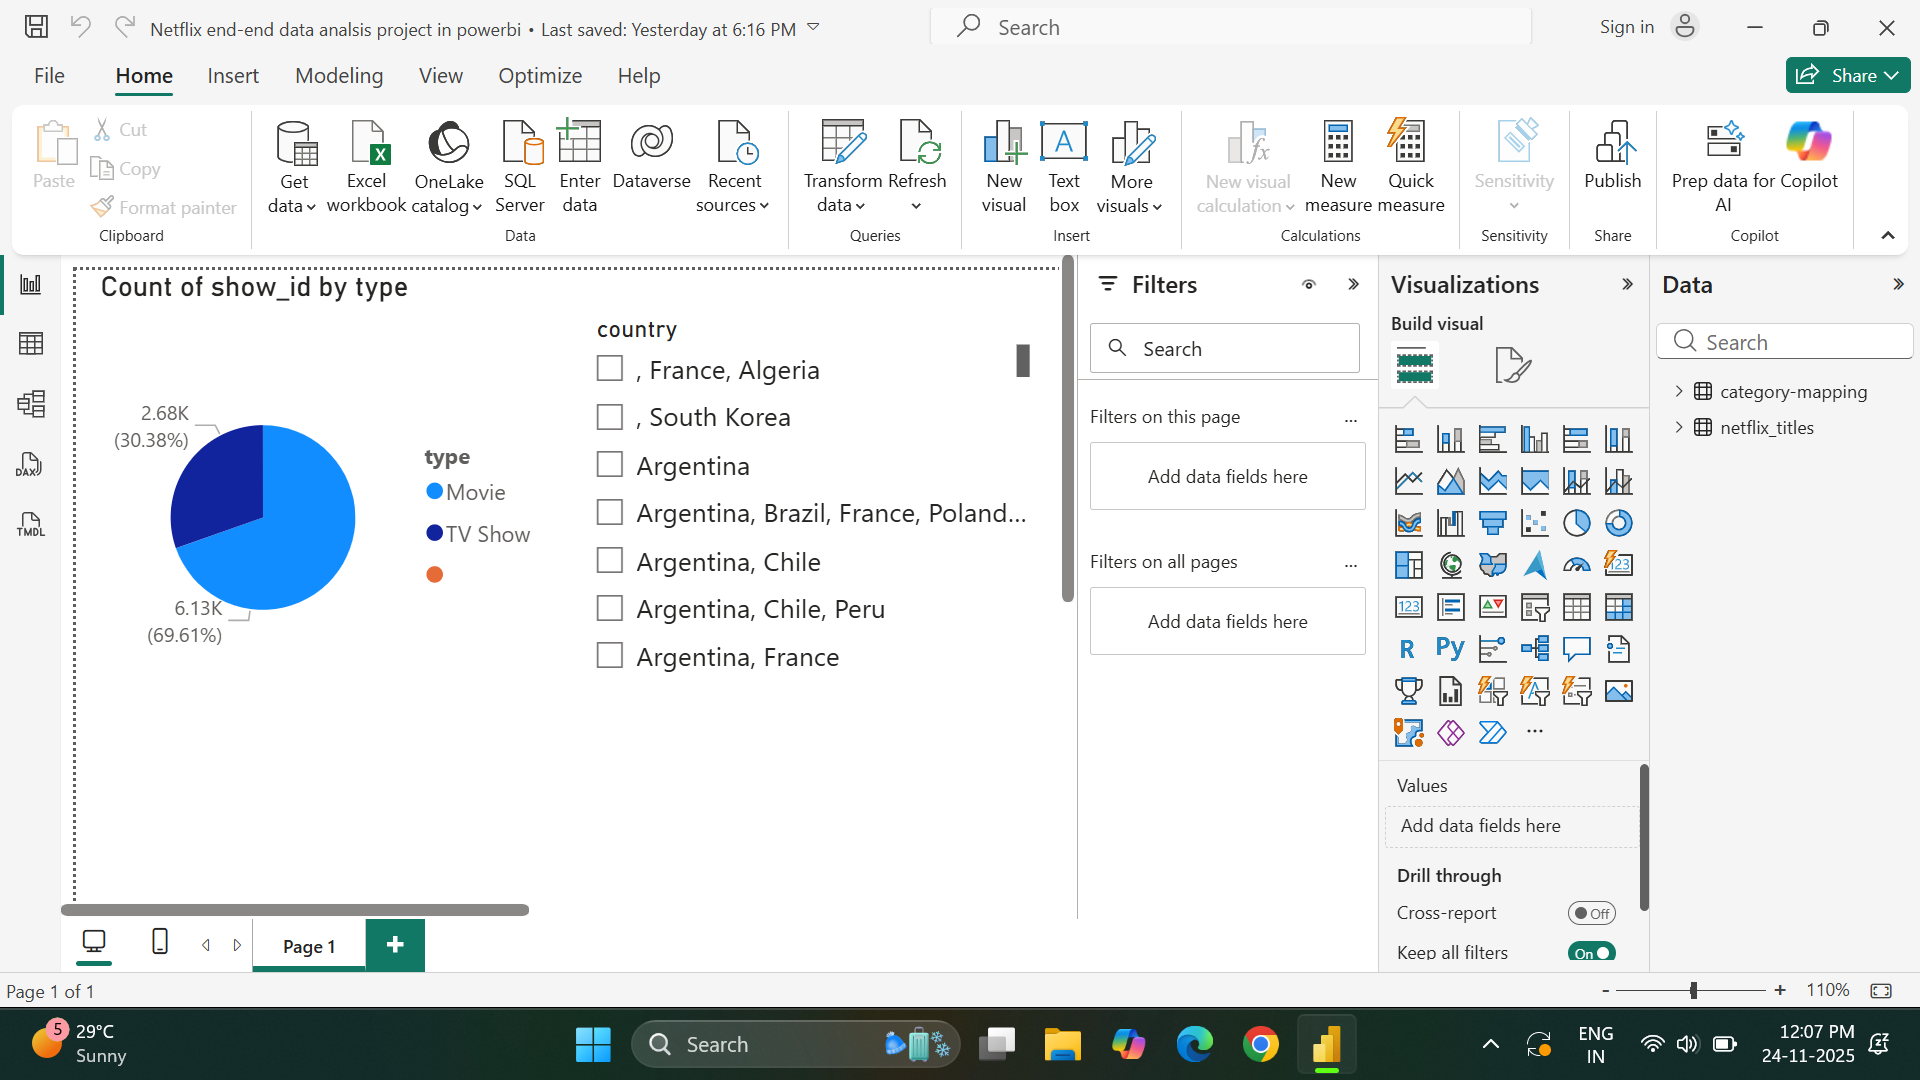

What the dashboard file says about the page in this screenshot:
{"tool":"powerbi","page":{"name":"Page 1","canvas":[1280,720],"ordinal":0},"visuals":[{"type":"pieChart","fields":{"Category":["netflix_titles.type"],"Y":["CountNonNull(netflix_titles.show_id)"]},"box":[10,0,280,280],"z":0},{"type":"slicer","fields":{"Values":["netflix_titles.country"]},"box":[302.7,21.8,280,235.5],"z":1000}]}

Visuals, with their boxes on the page's 1280x720 design canvas (x1, y1, x2, y2). These are canvas units, not pixel positions in the 1920x1080 screenshot, which may show the page scaled, cropped or inside an application window:
pieChart - netflix_titles.type x CountNonNull(netflix_titles.show_id): <box>10,0,290,280</box>
slicer - netflix_titles.country: <box>303,22,583,257</box>
